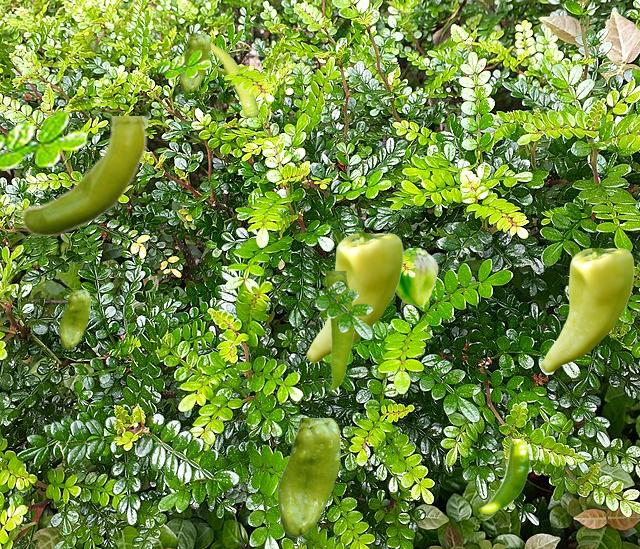green_chili: (20, 116, 148, 234), (306, 233, 402, 362), (541, 248, 633, 372), (277, 418, 339, 536), (478, 439, 529, 513), (210, 42, 257, 116), (324, 271, 353, 389), (396, 248, 437, 306), (179, 34, 209, 92), (59, 290, 89, 348)
